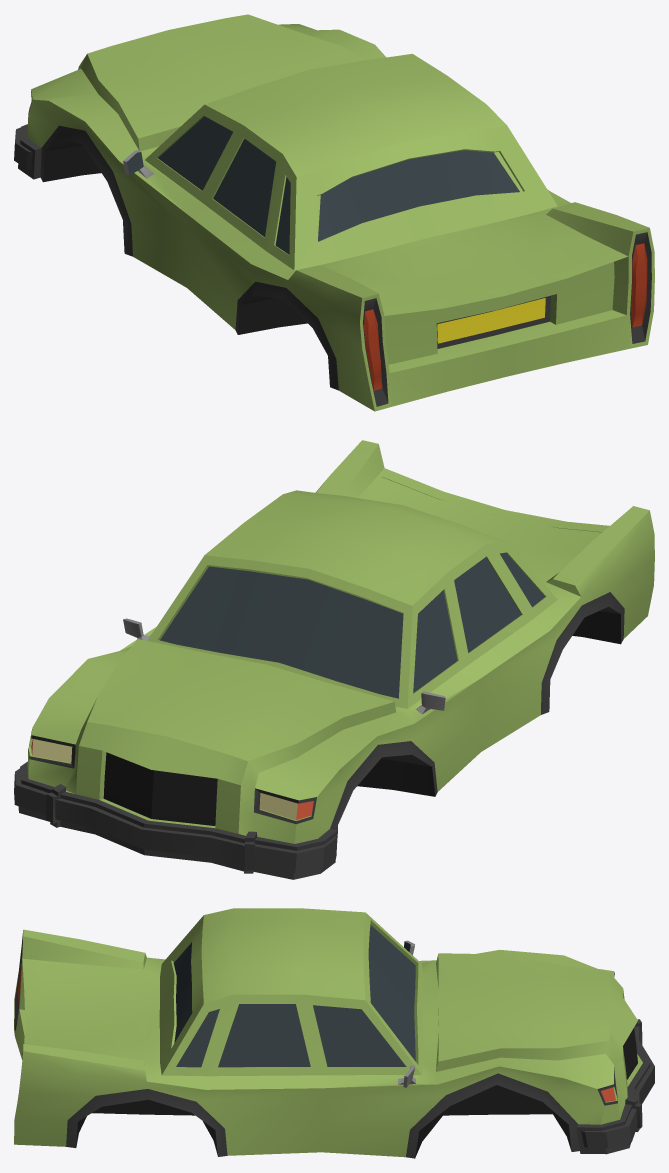
The model's file is american_body3.glb.
3 views of the same model, one above another, from view 1: azimuth 30°, elevation 25°; view 2: azimuth 150°, elevation 25°; view 3: azimuth 270°, elevation 25° (orthographic). The views are drawn at different scales.
Visible parts, largest first — view 1: american_body; view 2: american_body; view 3: american_body.
Boxes of the visible parts, bbox=[...] form: american_body: bbox=[14, 14, 654, 411]; american_body: bbox=[14, 440, 654, 879]; american_body: bbox=[14, 908, 654, 1158].
Bounding box in the file's own units: 1.61 × 0.8293 × 3.2.
Materials: 1 (1 with a texture image).
